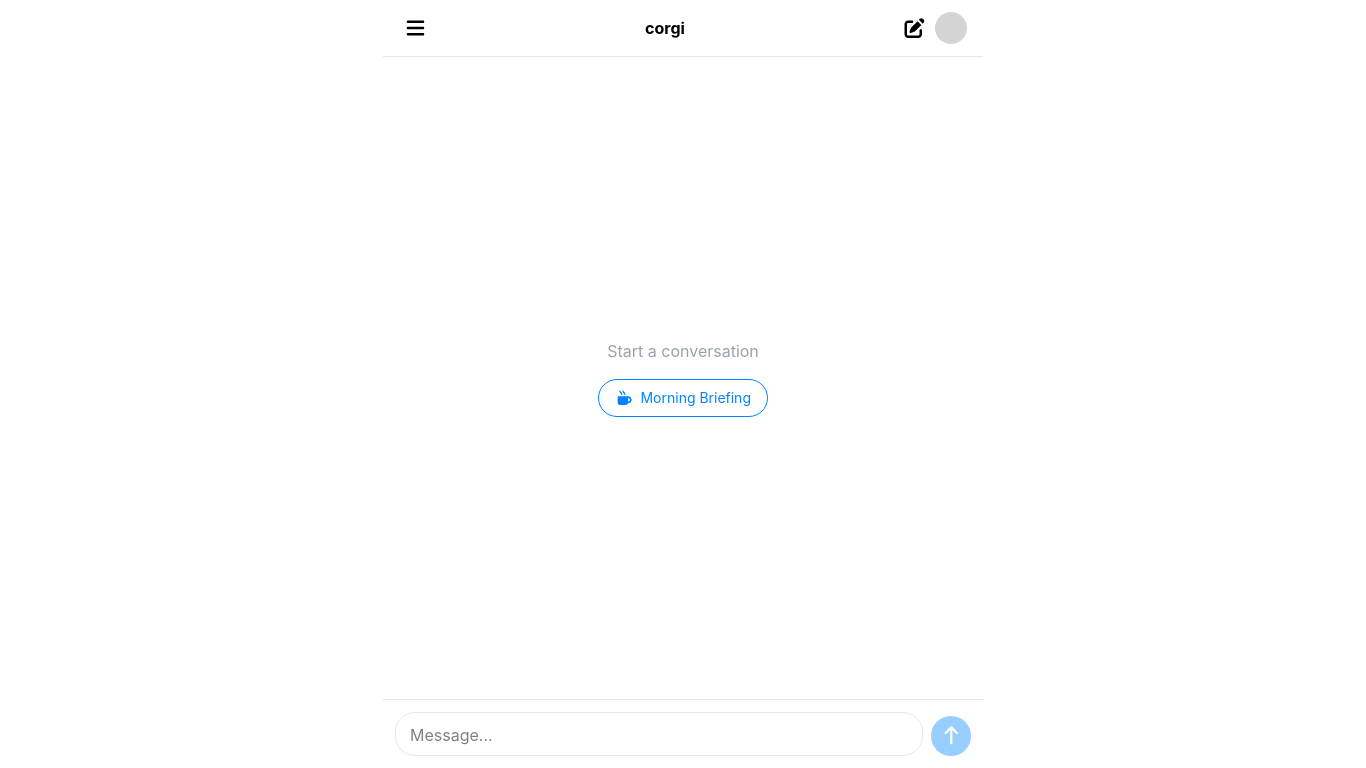
Test: ChatPage compose button › clicking compose resets to the empty state
# Open drawer and load a conversation
Click the button named "Toggle menu".
click(416, 28)  # box [399, 14, 432, 42]
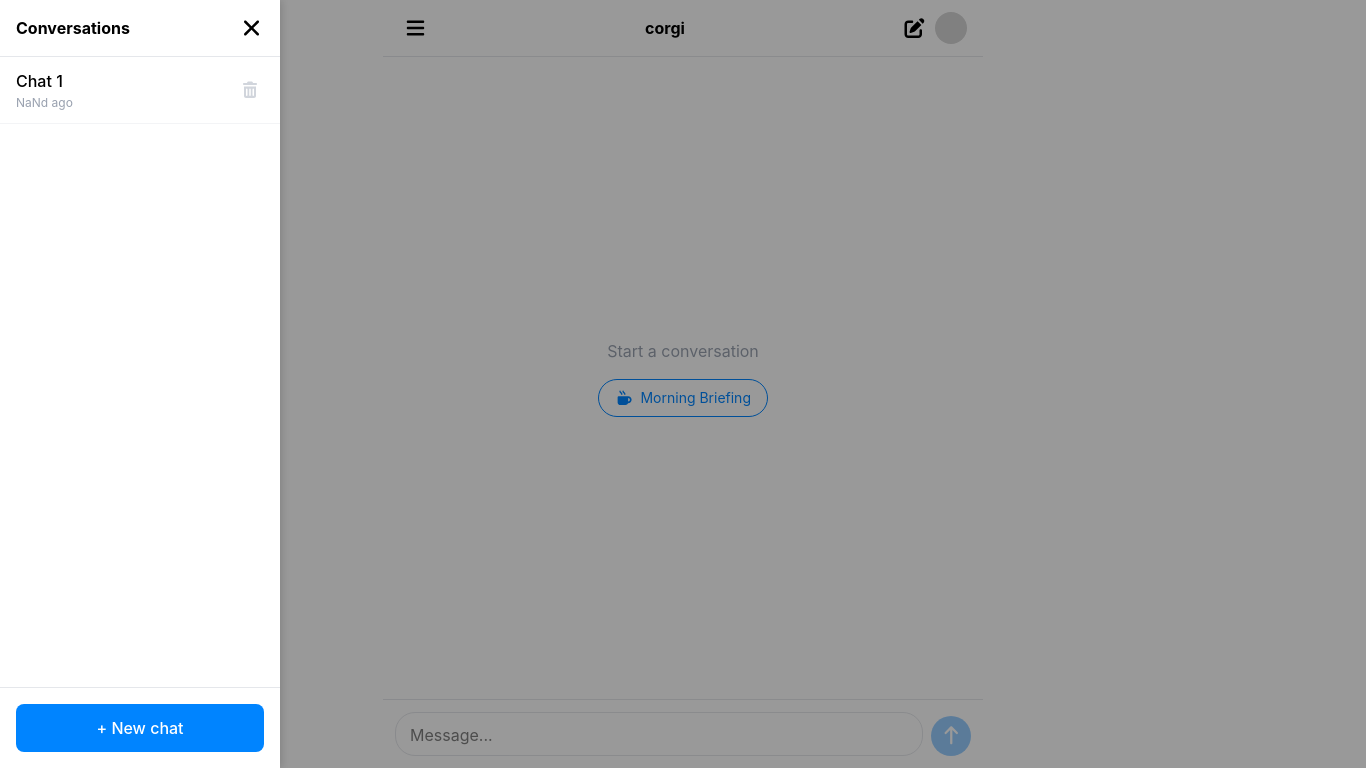
Expected: the text "Chat 1" is shown
Click the text "Chat 1".
click(39, 81)  # box [16, 71, 63, 91]
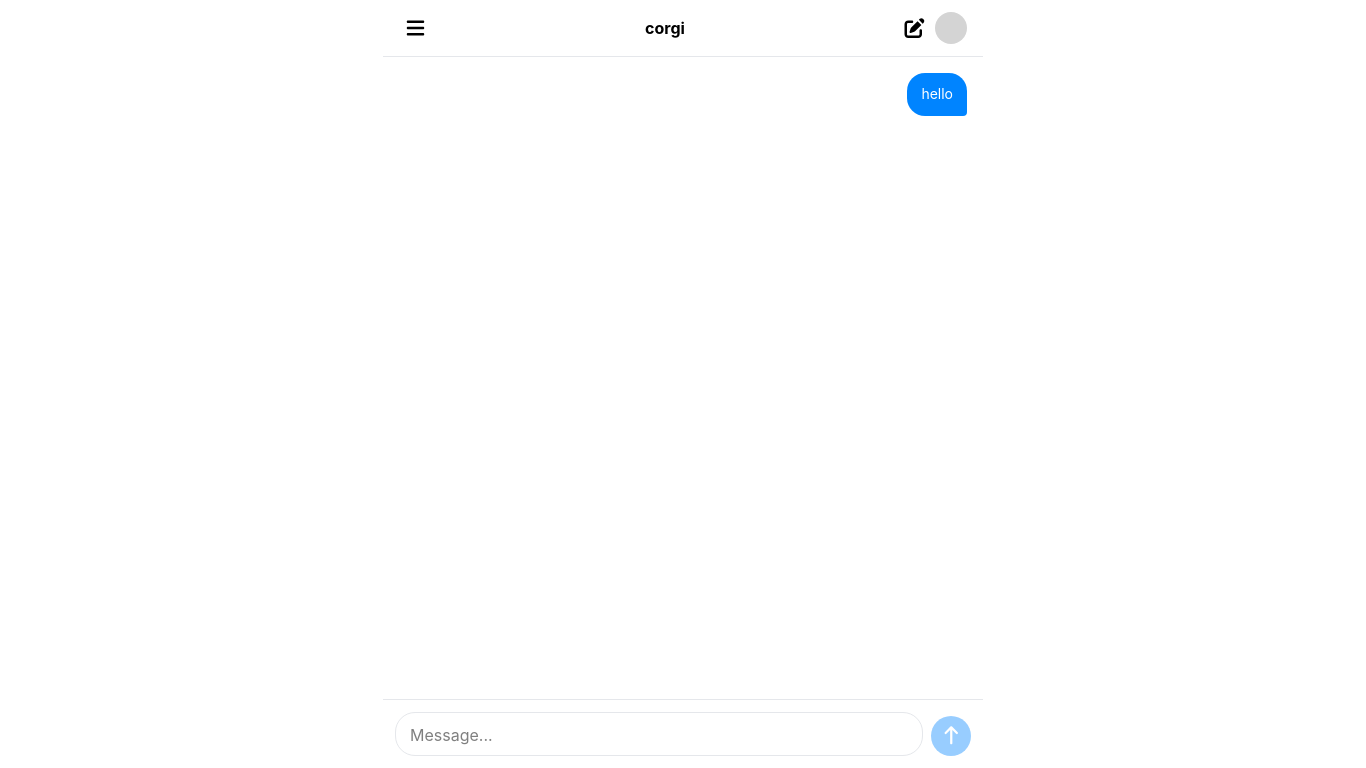
Expected: the text "hello" is shown, [907, 73, 967, 116]
# Click compose — should reset to empty state
Click the button named "New chat".
click(914, 28)  # box [898, 14, 931, 42]
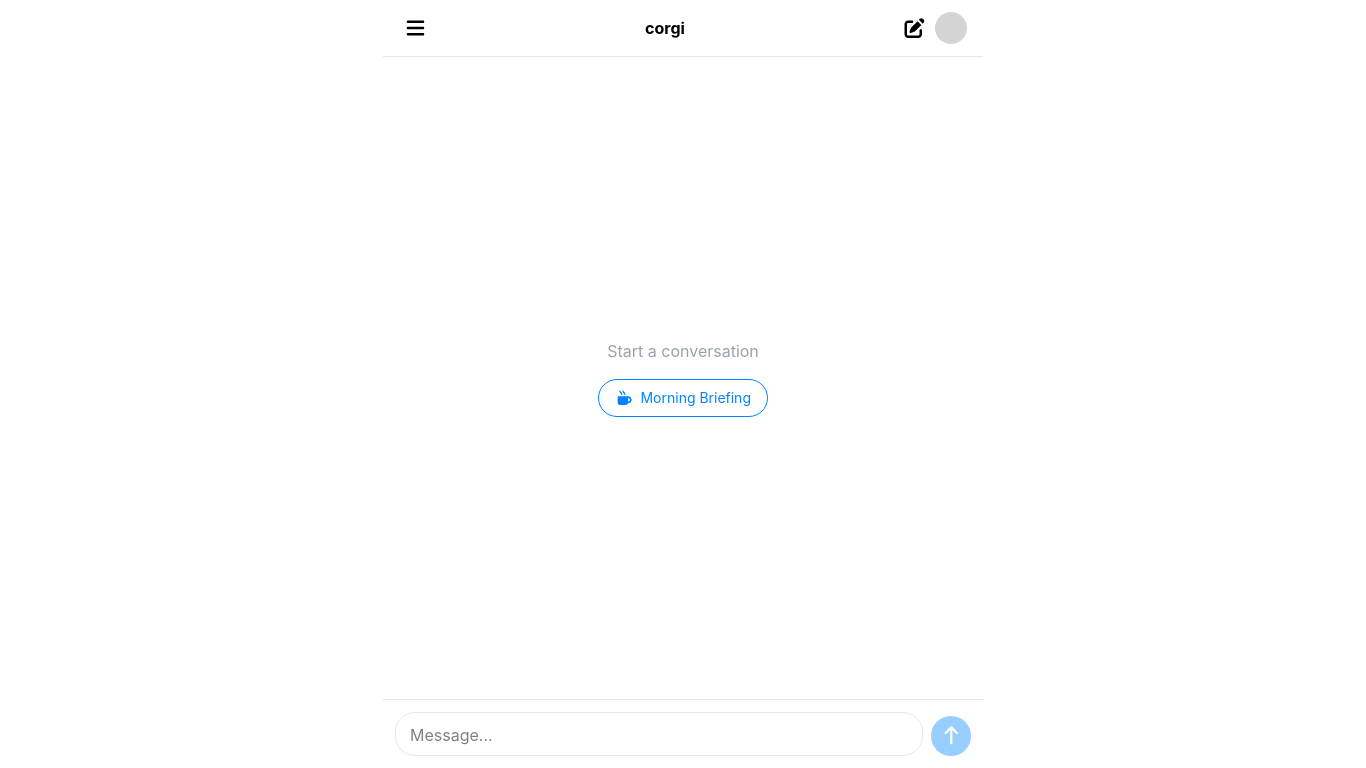
Expected: the text "Start a conversation" is shown, [607, 341, 759, 361]
